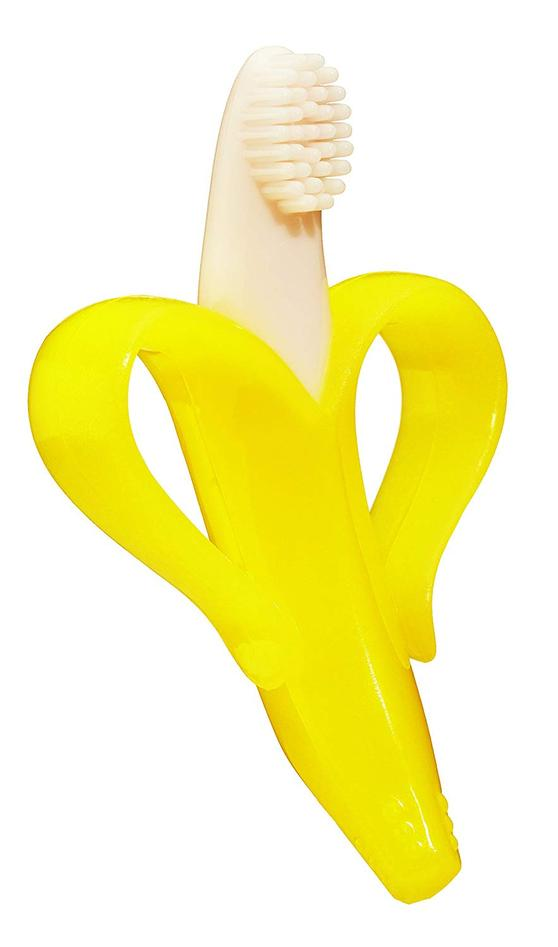banana: (12, 35, 551, 920)
